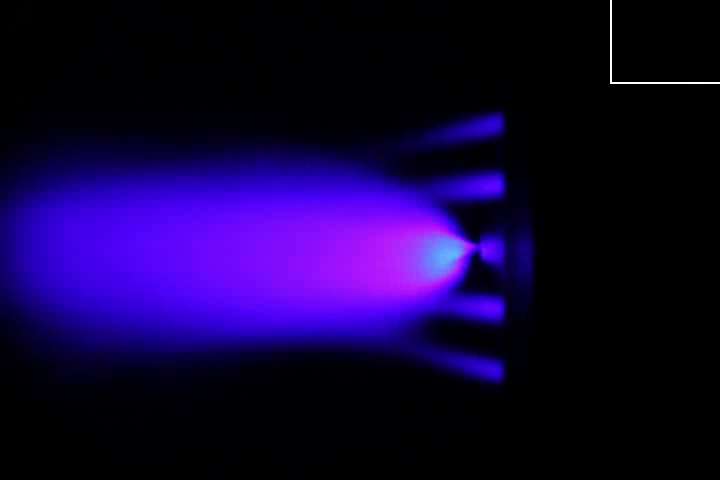burner cap: (479, 234, 507, 269)
pilot flame: (387, 334, 509, 386), (394, 108, 505, 150), (409, 169, 508, 202), (421, 293, 507, 326)
stable: (350, 215, 480, 293)
